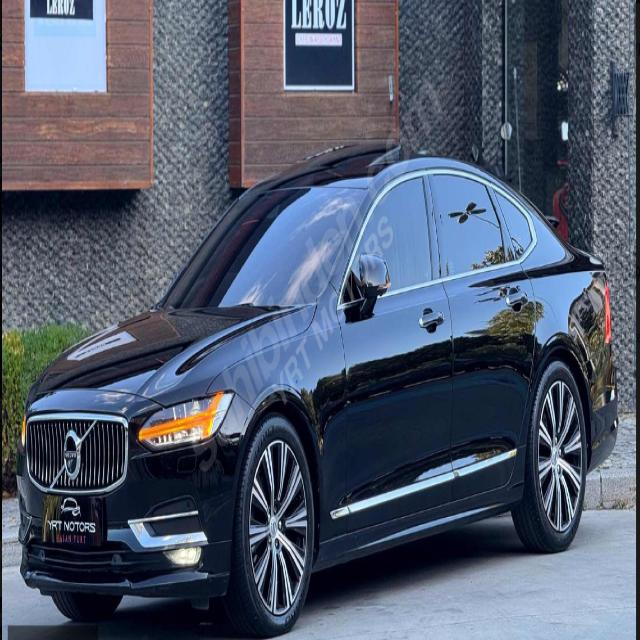volvo: (61, 425, 84, 480)
